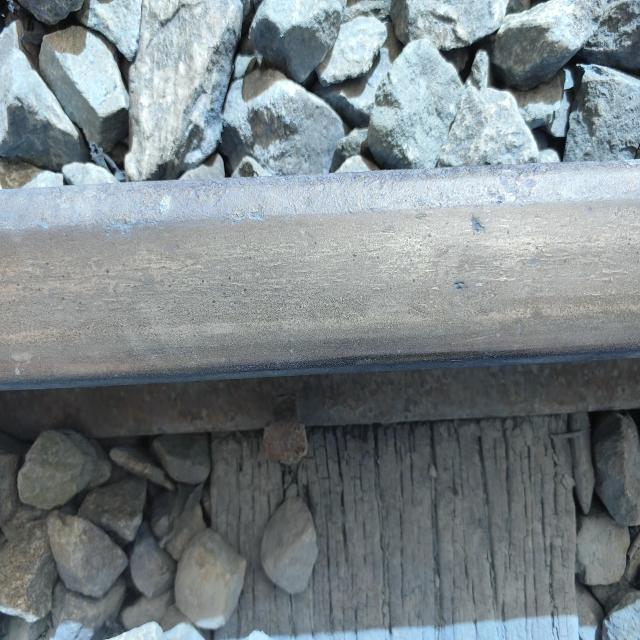head_checks_low: (483, 164, 541, 204), (466, 214, 488, 236), (448, 276, 472, 294)
